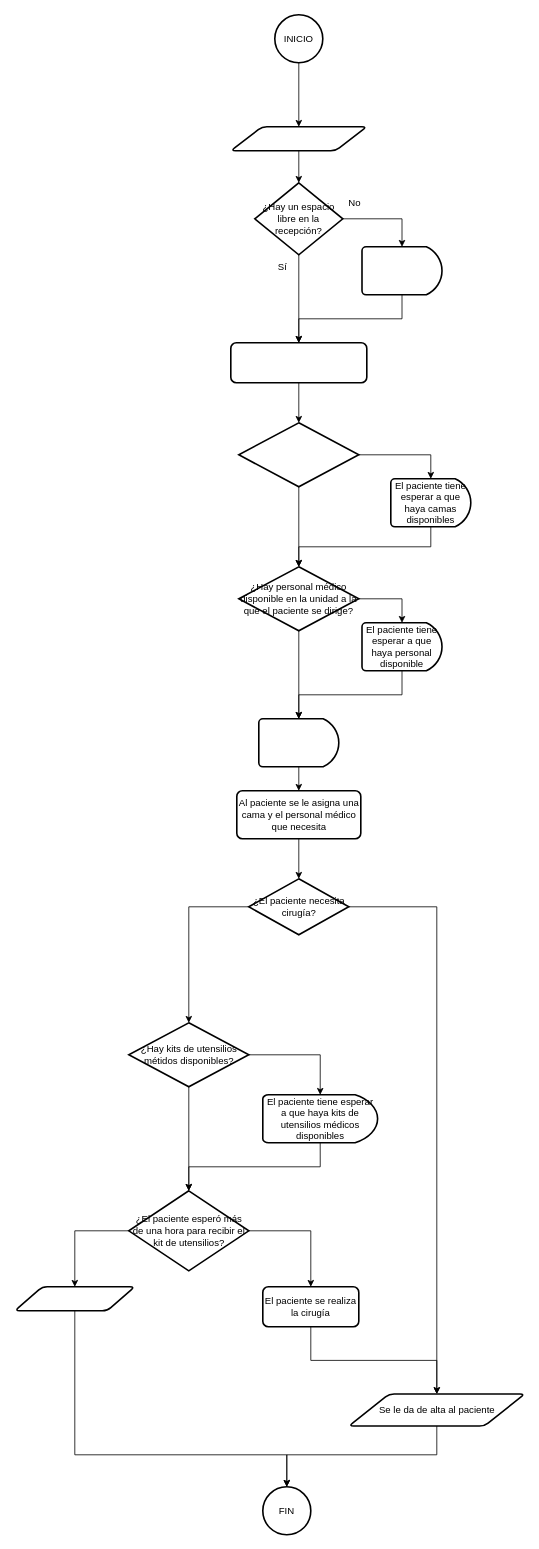
The diagram is 539 pixels wide and 1549 high, and some of its shapes have lost their labels. The shapes that lost their labels are listed below. From the top down, each one's centre as x and y in pixels, then its label:
At point (298, 138): "Llegada del paciente".
At point (401, 270): "El paciente tiene hacer cola para ser atendido".
At point (298, 362): "El paciente solicita ser atendido".
At point (298, 454): "¿Hay camas disponibles en la unidad a la que el paciente se dirige?".
At point (298, 742): "El paciente es atendido".
At point (74, 1298): "El paciente murió".
